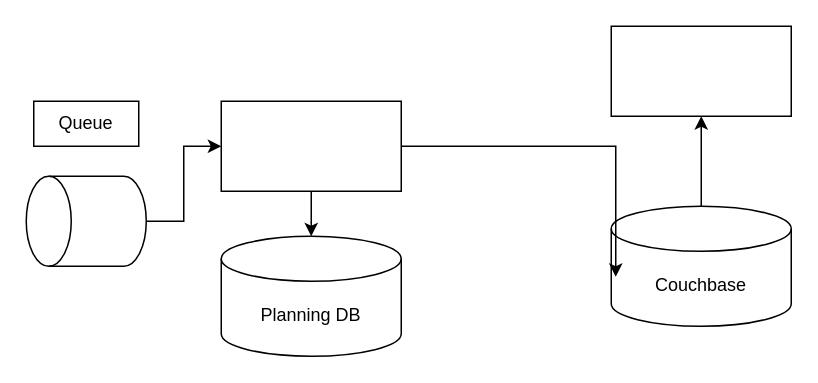
Image size: 818x383. Some labels were removed from this diagram. Here are the shapes that lost their labels. From the top down, the box of each, then its label:
(610, 25, 791, 116): D Edge Planning
(220, 100, 401, 191): Planning Integration
